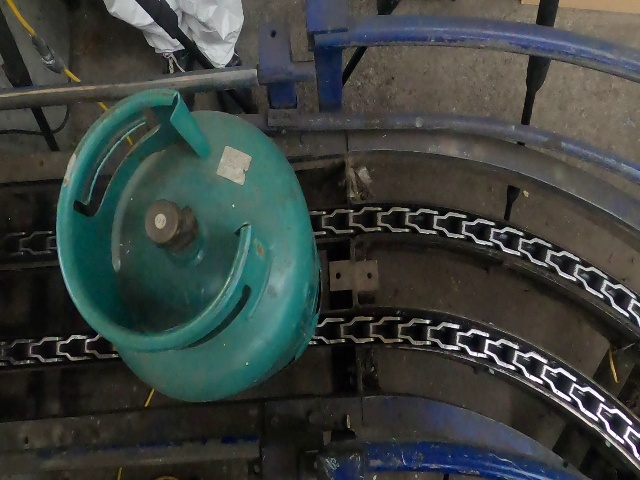gas_bottle: (5, 5, 640, 480)
